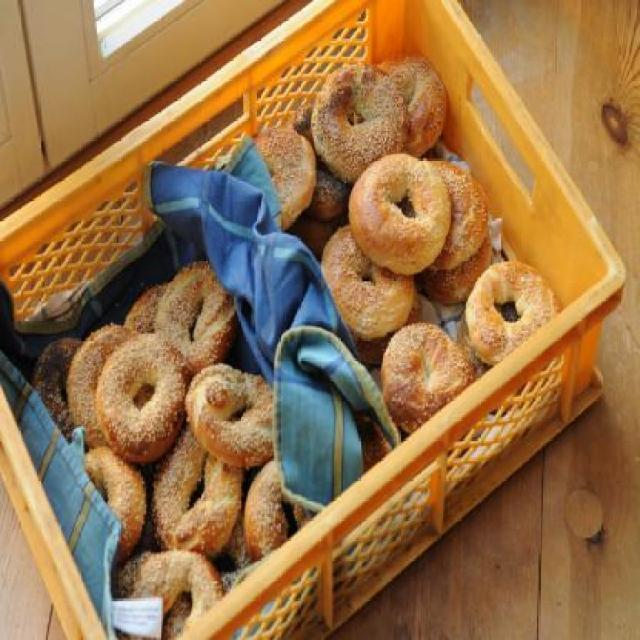Bagel: (251, 52, 558, 471), (32, 263, 306, 639), (85, 339, 182, 464)
